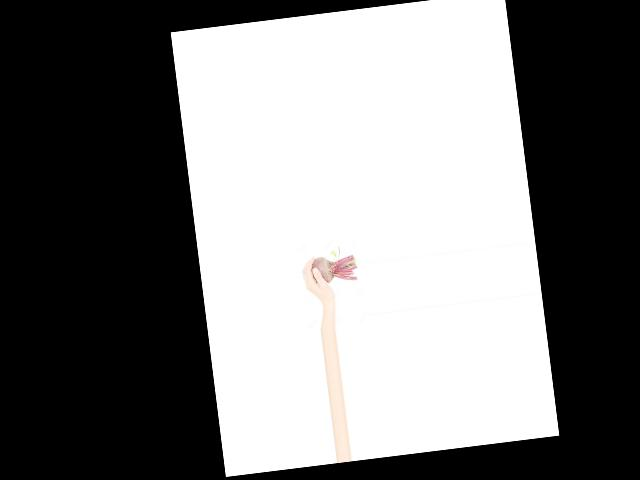beet: (308, 244, 358, 284)
